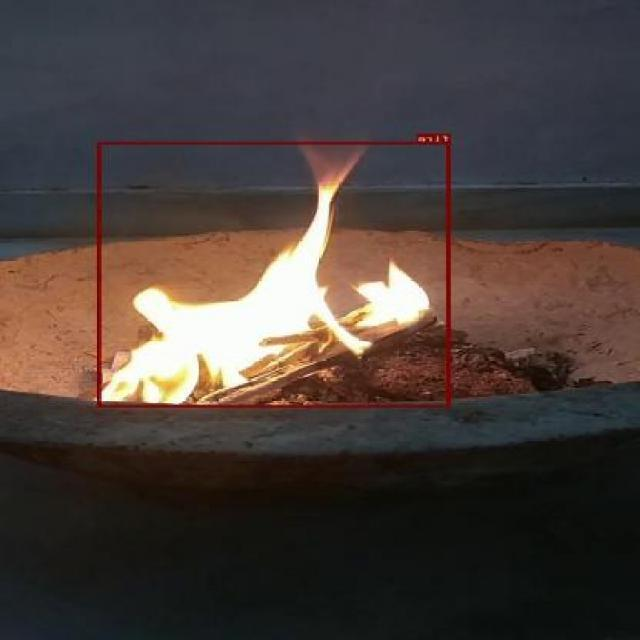Fire: (98, 141, 452, 407)
